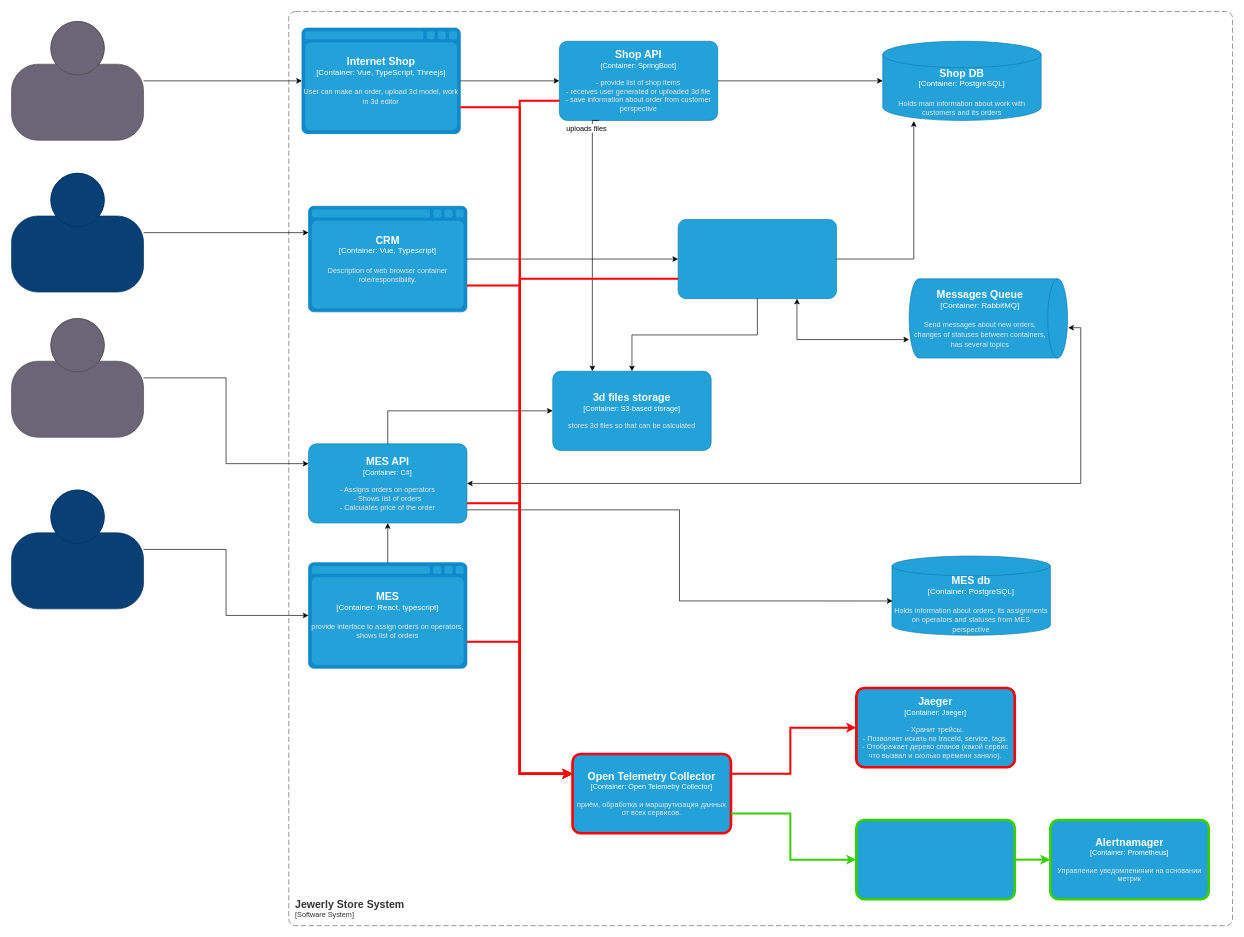
The diagram is 1244 pixels wide and 937 high, and some of its shapes have lost their labels. Here are the shapes that lost their labels. From the top down, the centre of each, then its label:
At (77,80): "Customer [Person] Description of external person.".
At (77,232): "Seller [Person] Operates with order, confirms manufacturing for the user".
At (757,259): "CRM API [Container: SpringBoot] Description of container role/responsibility.".
At (77,377): "API user [Person] Description of external person.".
At (77,549): "Operator [Person] Takes order in work, manufactures jewerly".
At (935,859): "Prometheus [Container: Prometheus] Сбор и хранение метрик".
